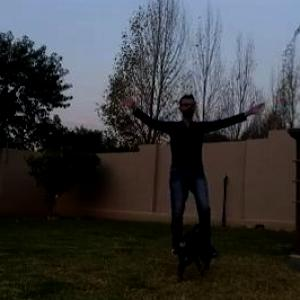takeoff: (131, 76, 299, 276)
